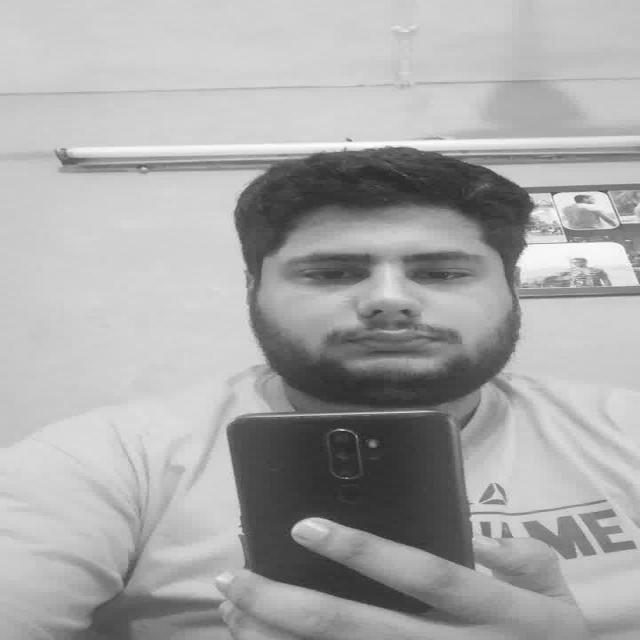fake: (224, 409, 466, 584)
real: (253, 201, 516, 373)
